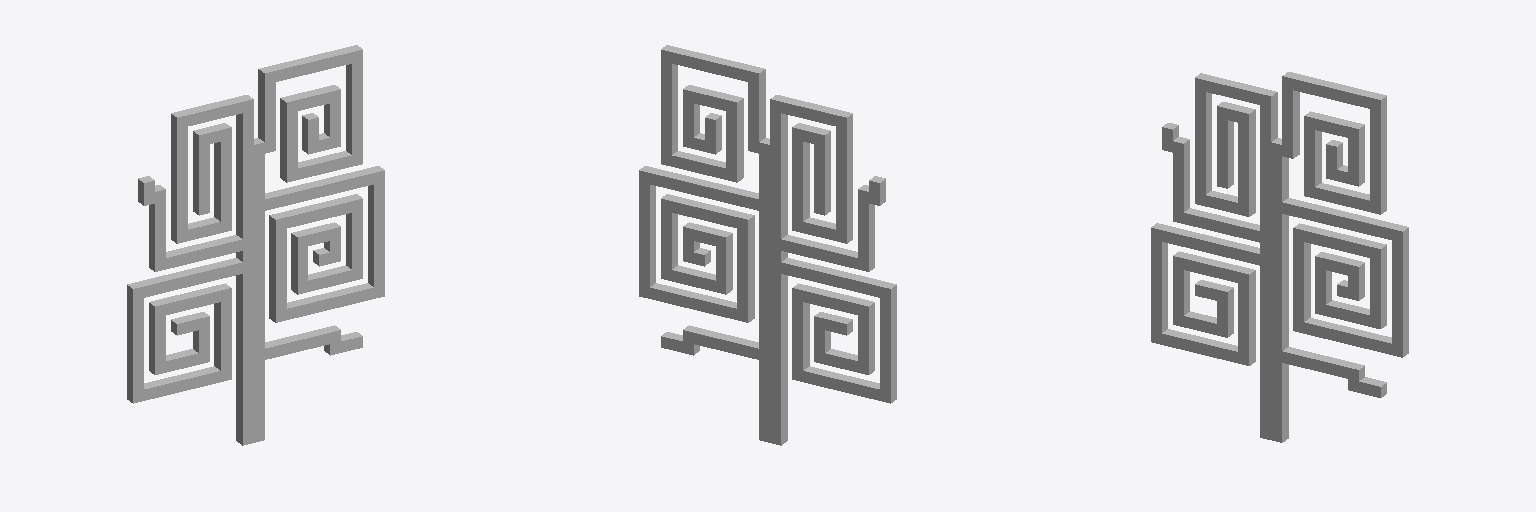
File: tree3.obj
3 views of the same model, side by side, from view 1: azimuth 30°, elevation 25°; view 2: azimuth 150°, elevation 25°; view 3: azimuth 330°, elevation 25° (orthographic).
Parts seen in each view (by area): view 1: object 1; view 2: object 1; view 3: object 1.
Part boxes in pixels (x1,y1,x2,y2): object 1: (127,45,384,445); object 1: (639,45,896,445); object 1: (1151,72,1408,442).
Size of the model in its own units: 2.3 by 3.2 by 0.1.